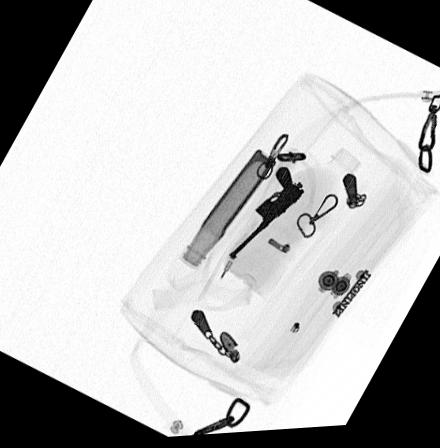Gun: (225, 167, 305, 264)
